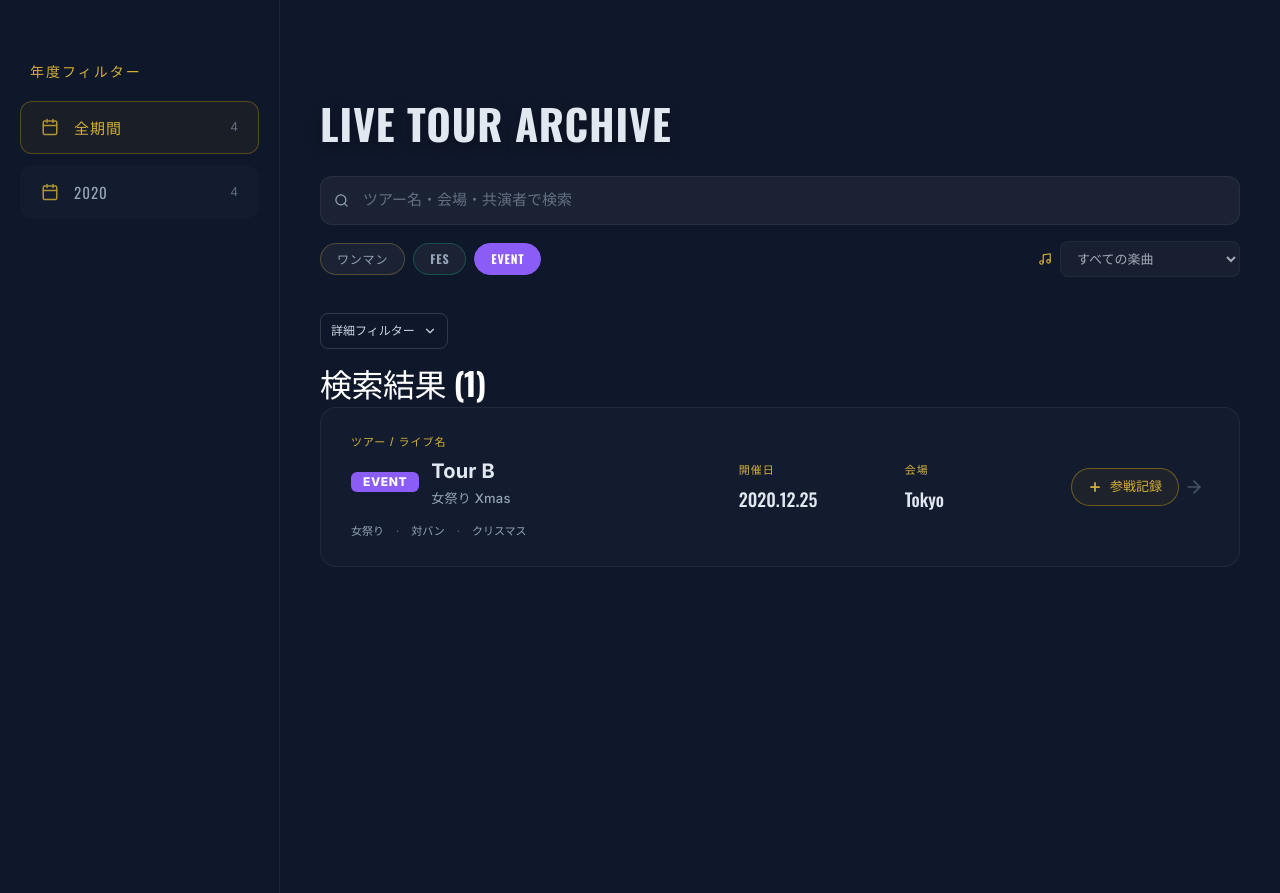
Test: LiveList 属性フィルター › 既存種別と組み合わせ、ゼロ件から全解除できる
What coordinates should you click on to do the following:
click the button "詳細フィルター"
I would click on:
 (384, 331)
Its box is [320,313,448,349].
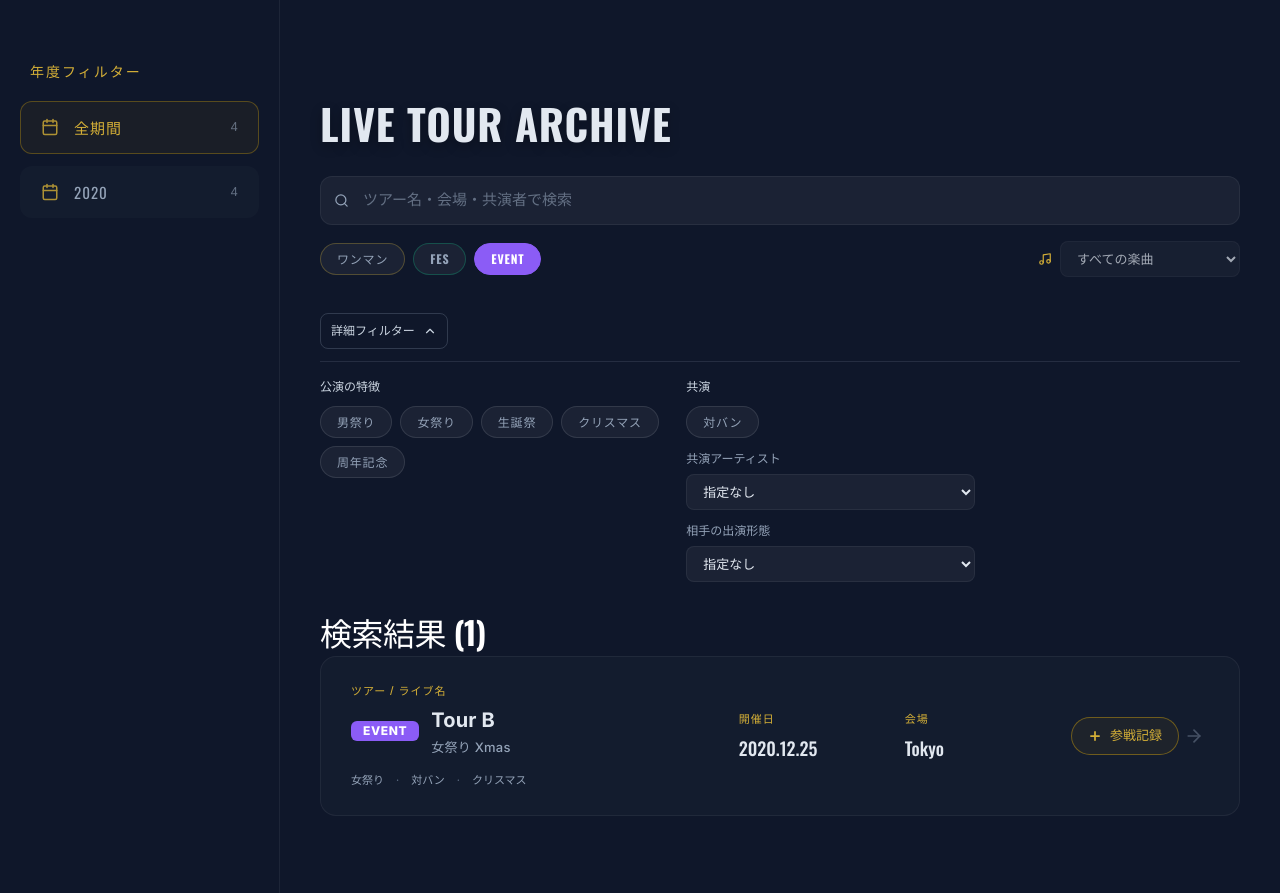
What coordinates should you click on to do the following:
click the button "男祭り"
I would click on:
 (356, 422)
Its box is [320,406,392,438].
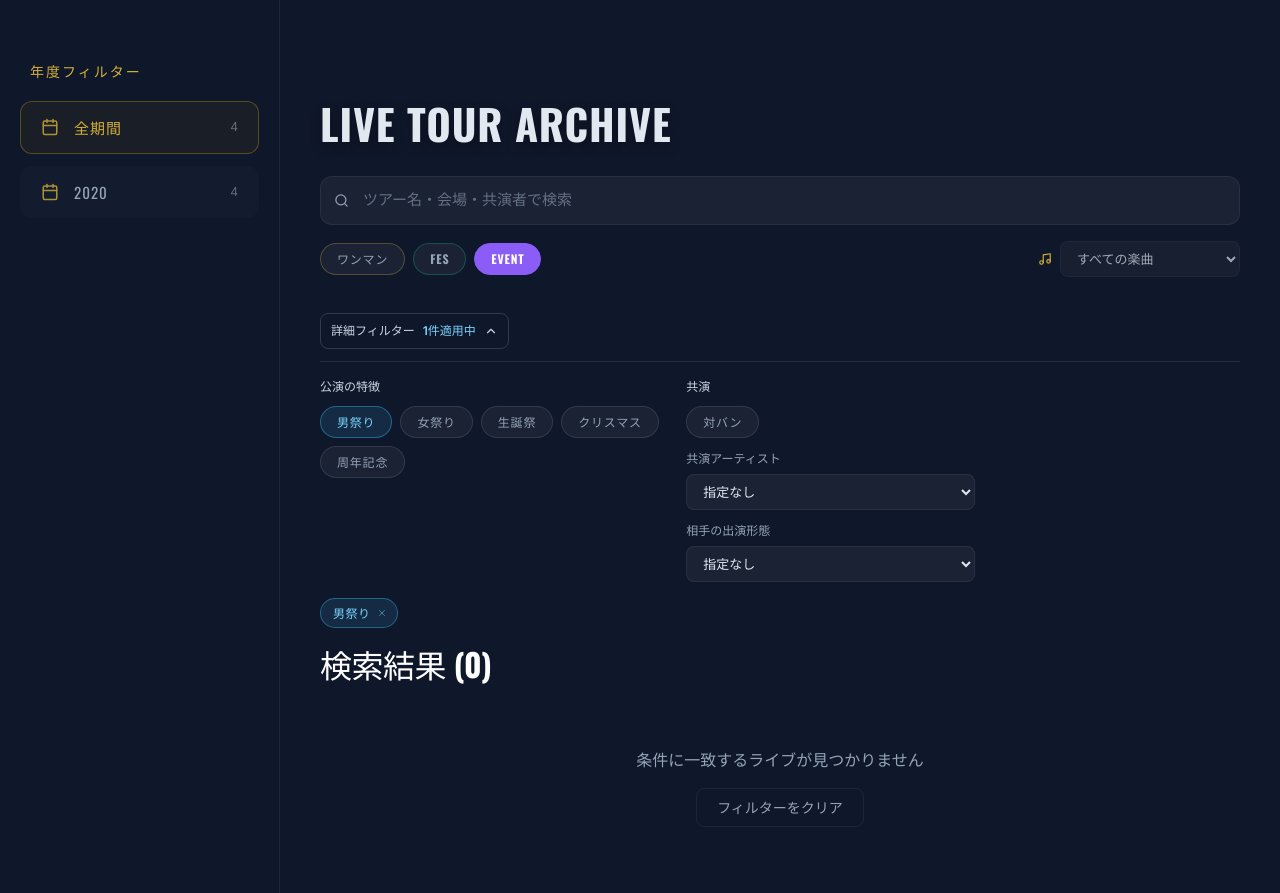
Expected: the text "条件に一致するライブが見つかりません" is shown, [636,750,924,770]
What coordinates should you click on to do the following:
click the button "フィルターをクリア"
I would click on:
 (780, 807)
Its box is [696,788,864,827].
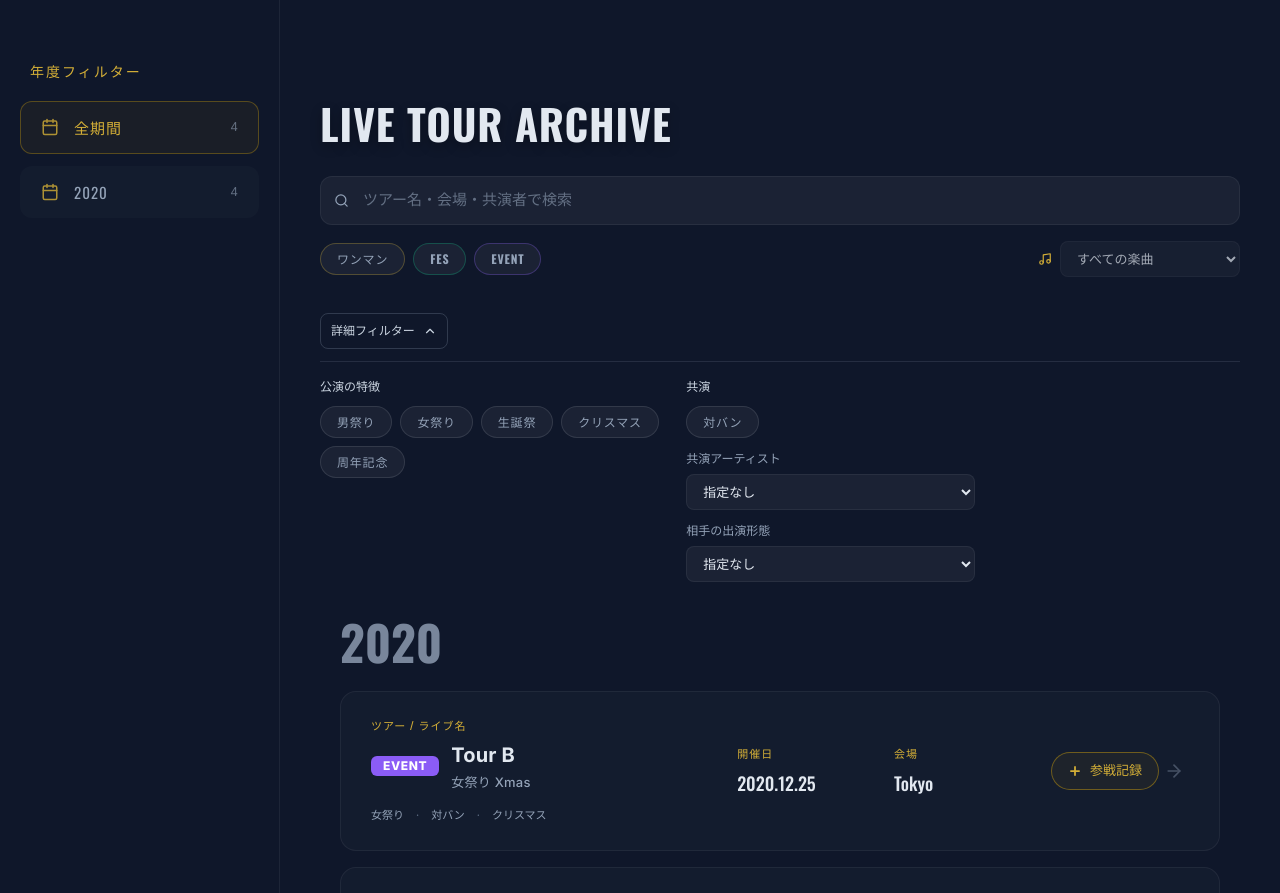
Expected: the button "男祭りフィルターを解除" is gone
